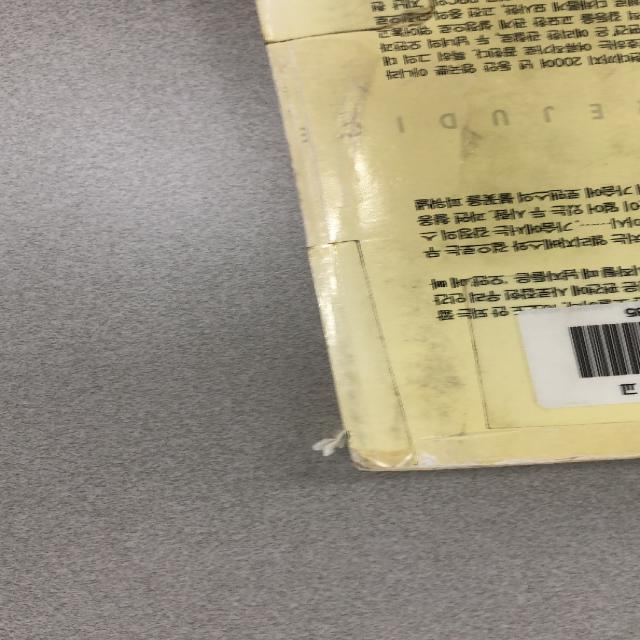Ripped: (306, 405, 392, 483), (393, 445, 450, 479)
Wornout: (454, 445, 639, 473)
